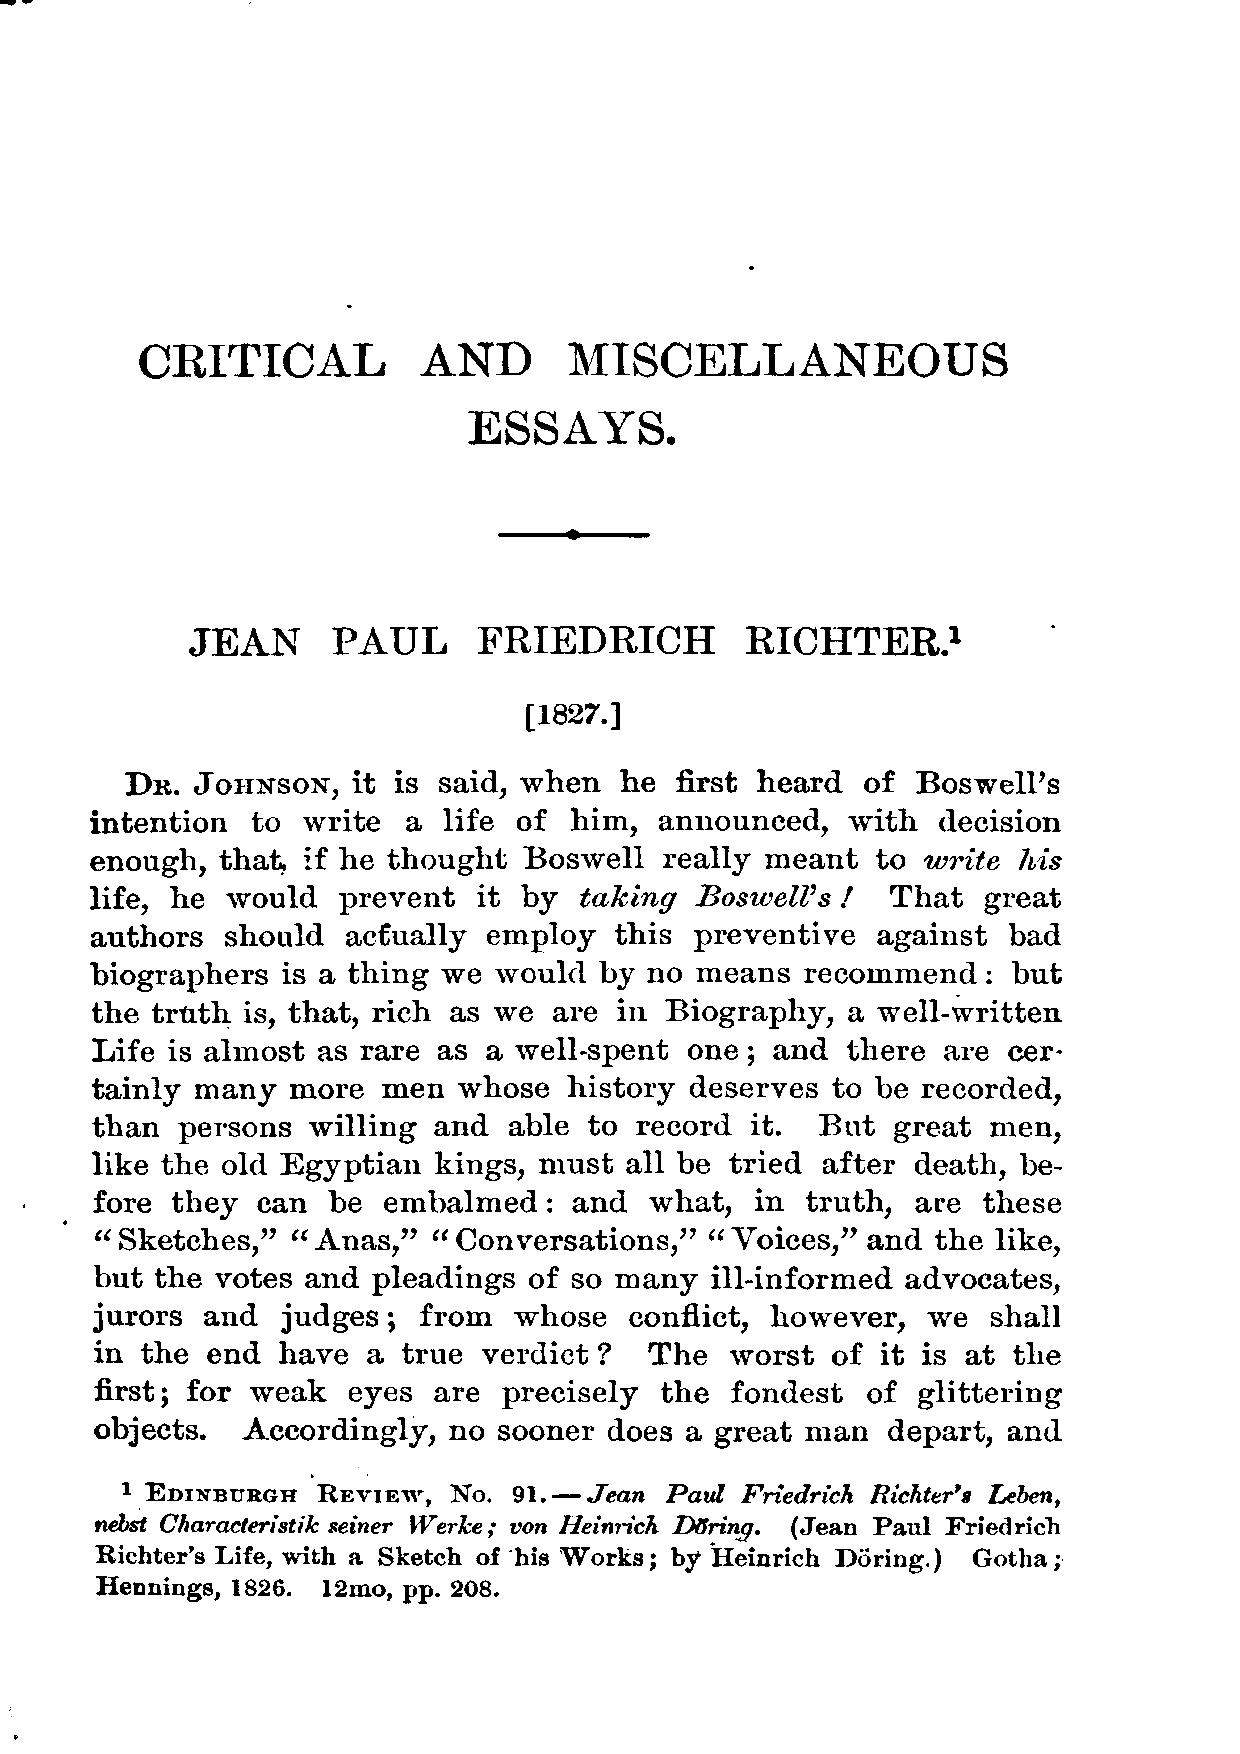chapter: (137, 340, 1011, 447), (187, 620, 960, 733)
content: (85, 769, 1066, 1605)
